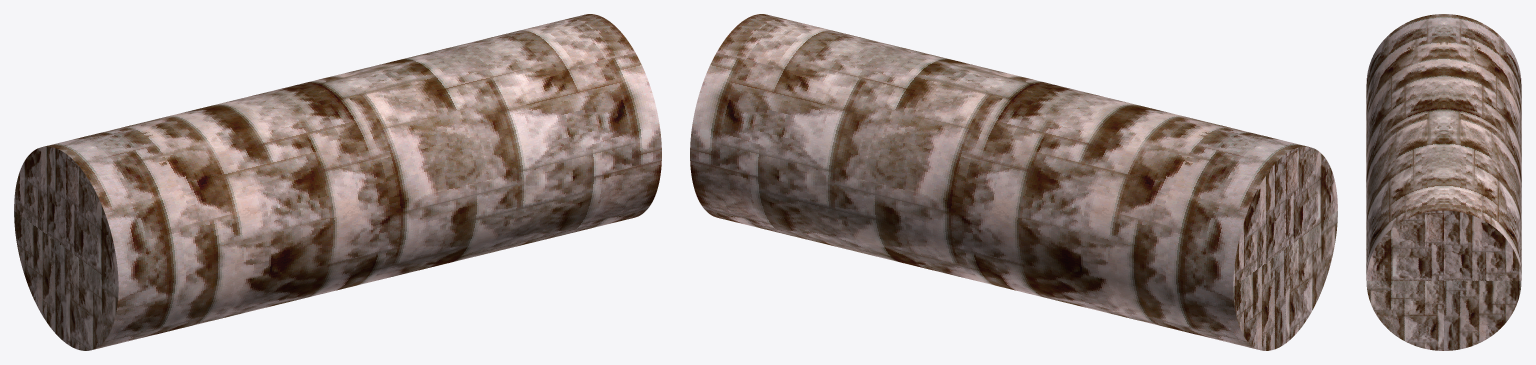
3 views of the same model, side by side, from view 1: azimuth 30°, elevation 25°; view 2: azimuth 150°, elevation 25°; view 3: azimuth 270°, elevation 25° (orthographic). The views are drawn at different scales.
Parts seen in each view (by area): view 1: Renderer Node; view 2: Renderer Node; view 3: Renderer Node.
Boxes of the visible parts, x1=… form: Renderer Node: x1=14, y1=14, x2=661, y2=350; Renderer Node: x1=690, y1=14, x2=1337, y2=350; Renderer Node: x1=1366, y1=14, x2=1521, y2=350.
Bounding box in the file's own units: 3 × 1 × 1.
1 material, 1 textured.
